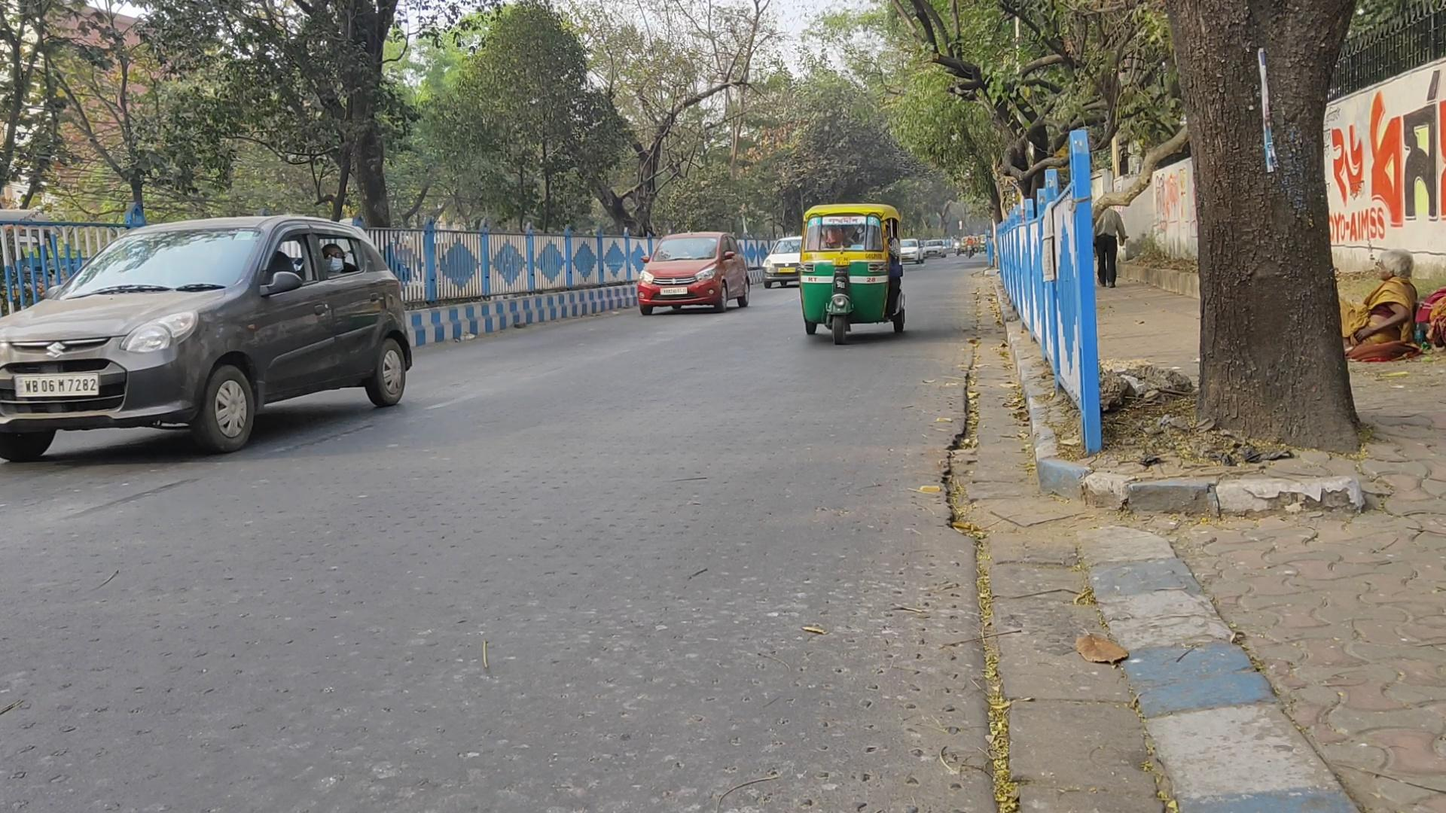Auto: (798, 203, 905, 345)
car: (1, 215, 414, 462), (637, 230, 752, 317), (762, 235, 801, 289), (895, 237, 924, 265), (922, 239, 947, 260)
